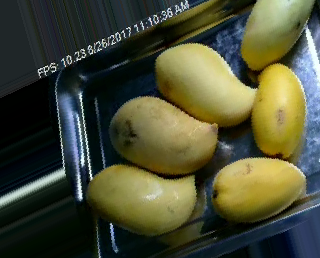Mango: (107, 97, 218, 175), (154, 42, 256, 125), (87, 164, 198, 234), (212, 157, 305, 223), (239, 0, 316, 70), (251, 64, 305, 157)
